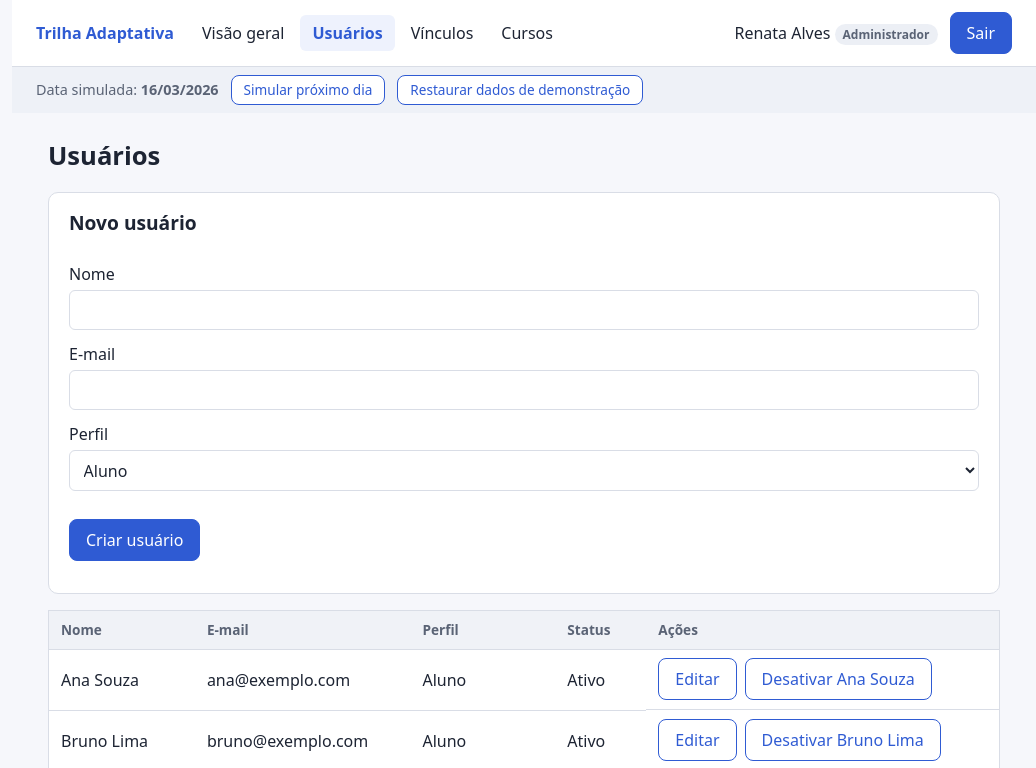
Test case: perfis-acesso › Administrador cria e edita usuário
Type "Diego Melo" into the field labelled "Nome".
click(524, 310); type("Diego Melo")  # box left=69, top=290, right=979, bottom=330
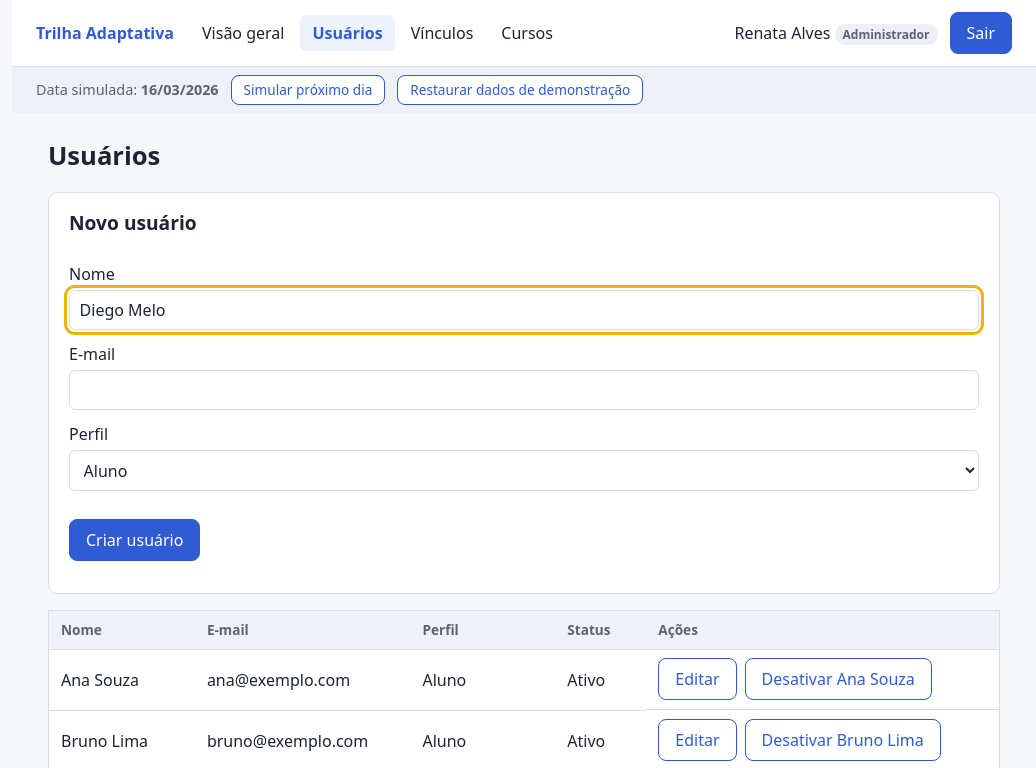
Type "diego@exemplo.com" into the field labelled "E-mail".
click(524, 390); type("diego@exemplo.com")  # box left=69, top=370, right=979, bottom=410
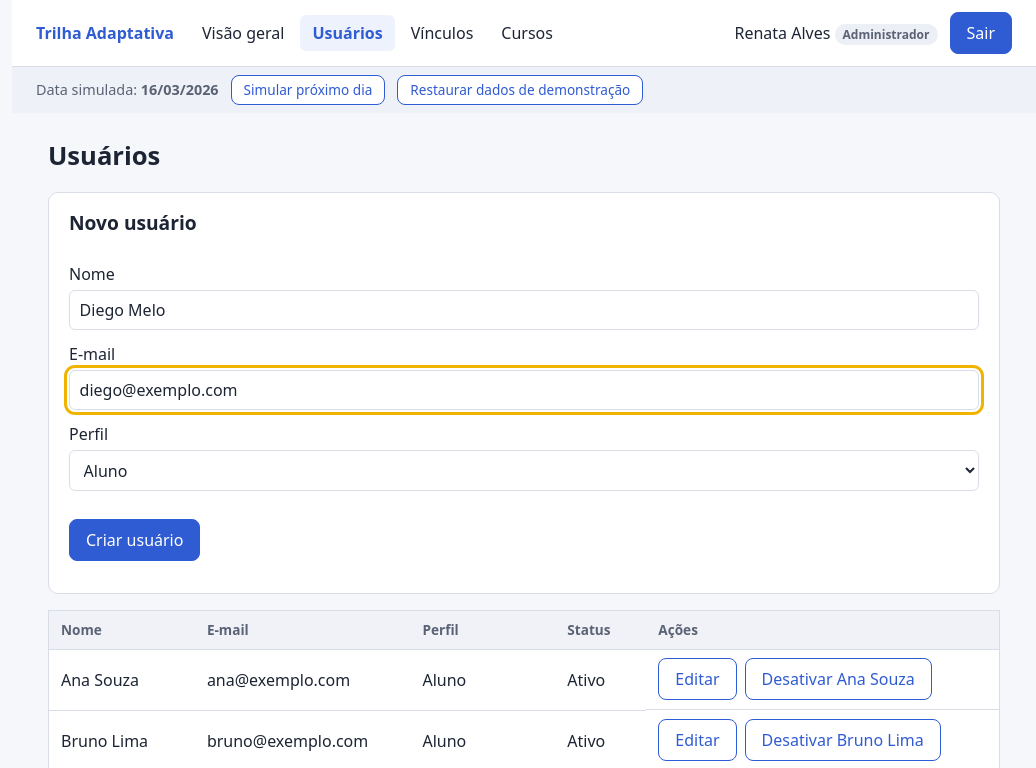
Click the button "Criar usuário".
click(135, 540)  # box left=69, top=519, right=200, bottom=561
(page scrolled)
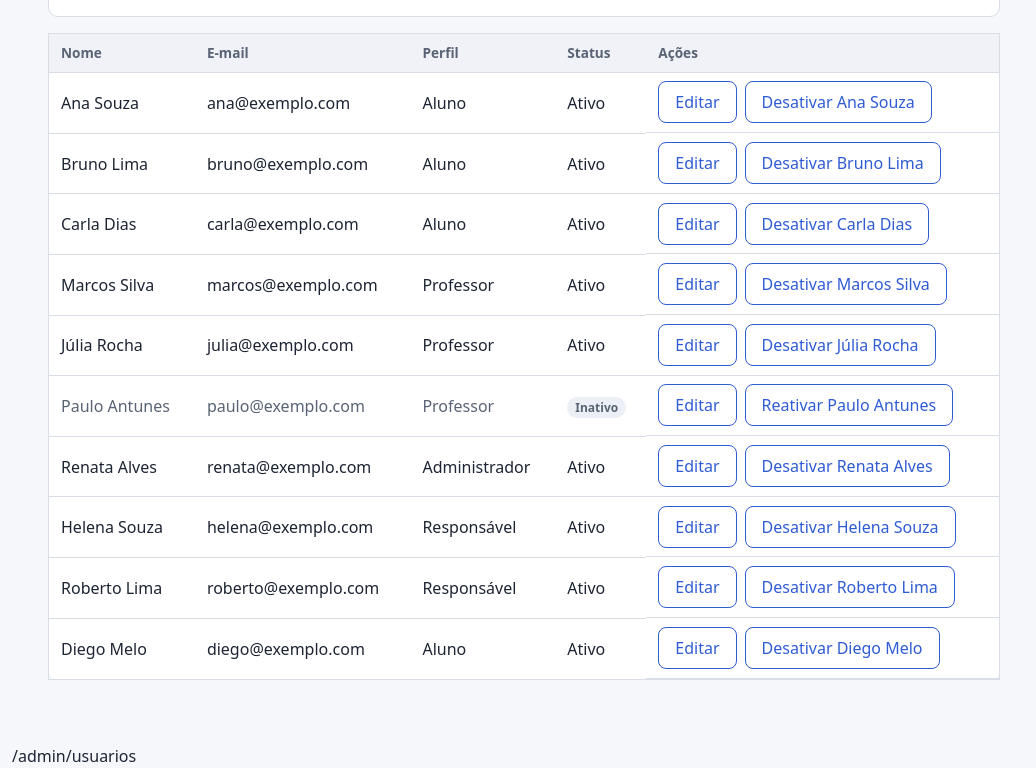
Click the button "Editar" in the row of "diego@exemplo.com".
click(697, 648)  # box left=658, top=627, right=736, bottom=669
(page scrolled)
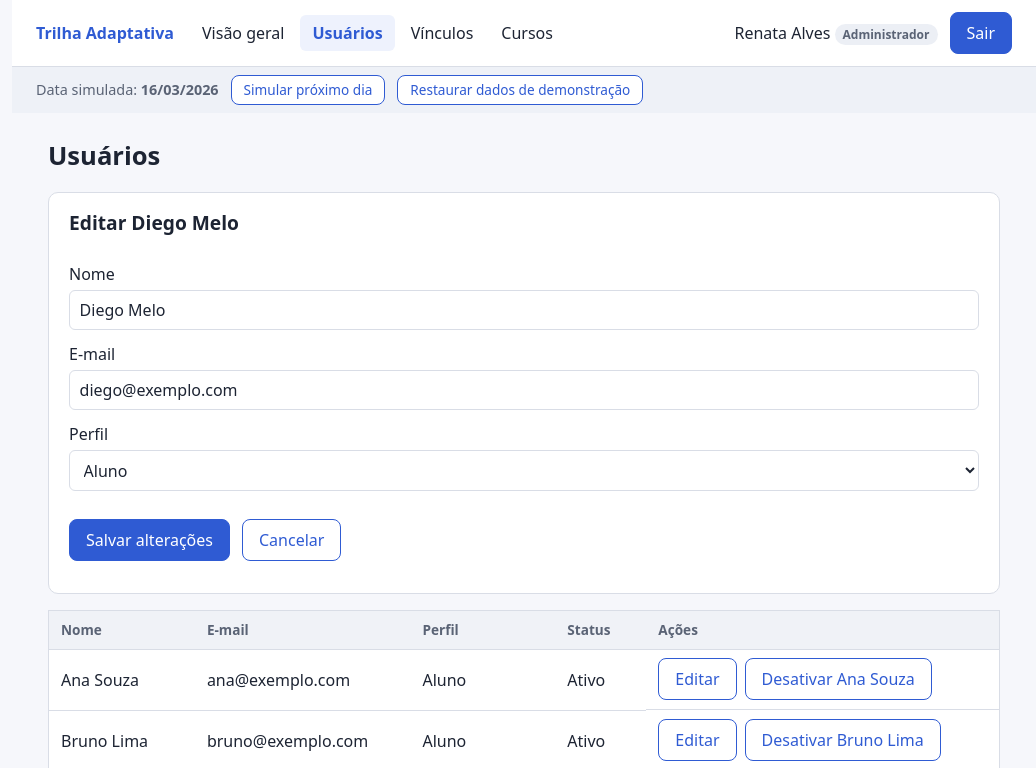
Replace the text in the field labelled "Nome" with "Diego M. Melo" at (524, 310), box left=69, top=290, right=979, bottom=330
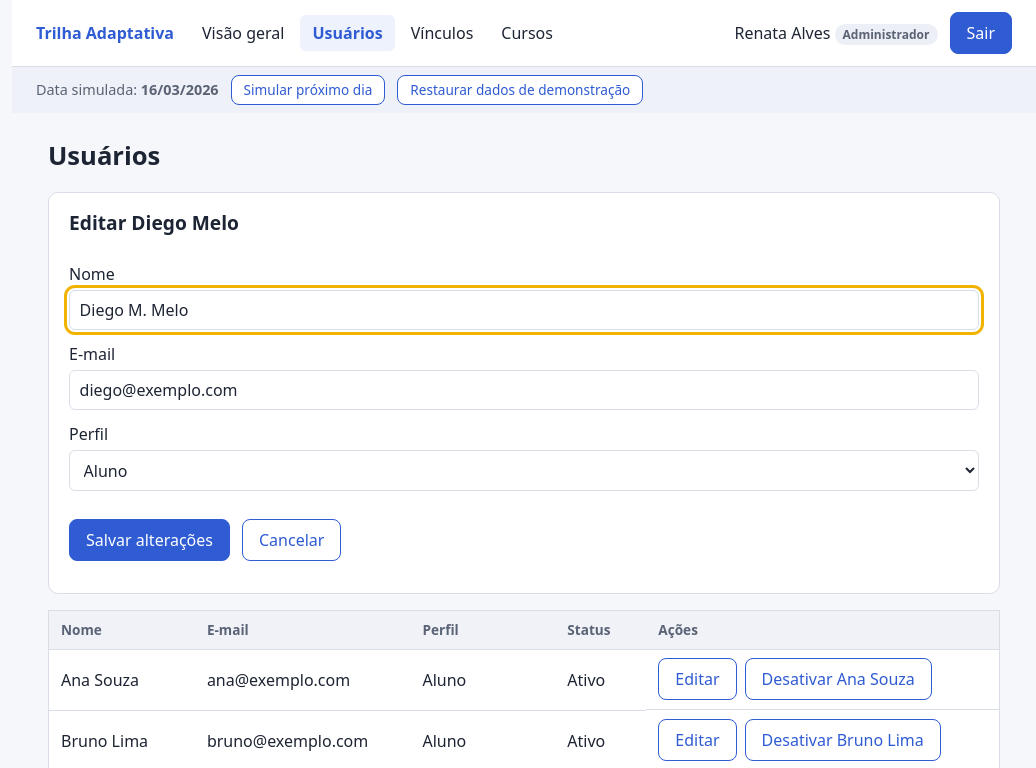
Click the button "Salvar alterações".
click(150, 540)  # box left=69, top=519, right=230, bottom=561
(page scrolled)
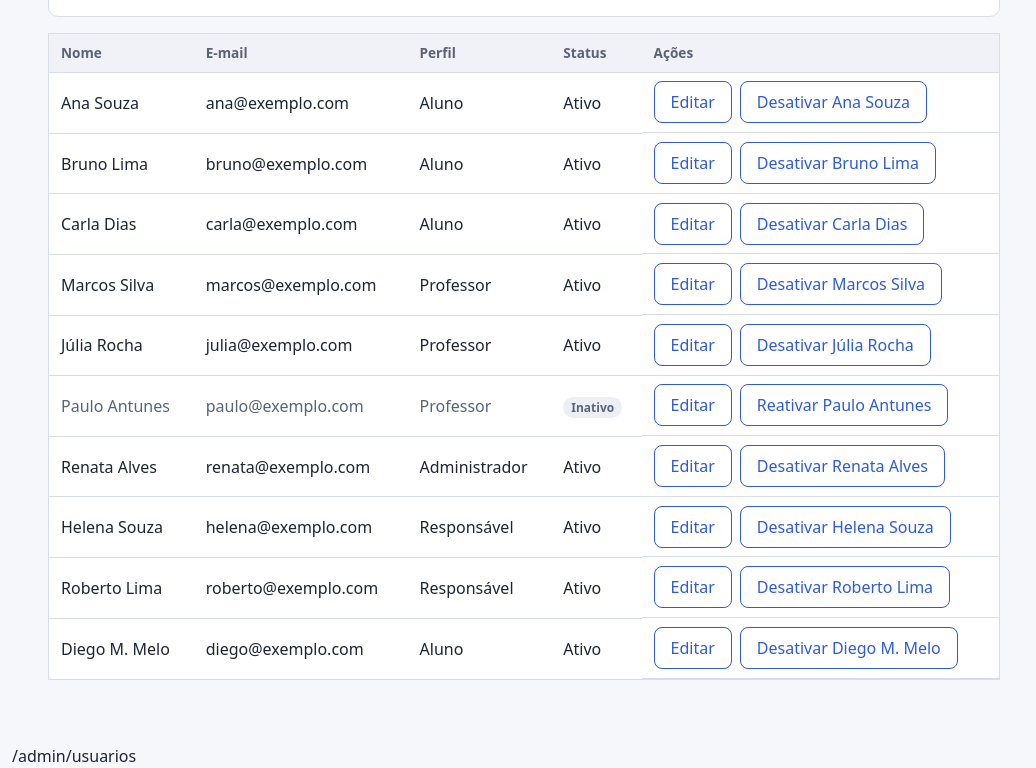
Expected: the text "Diego M. Melo" is shown, left=48, top=618, right=194, bottom=679
